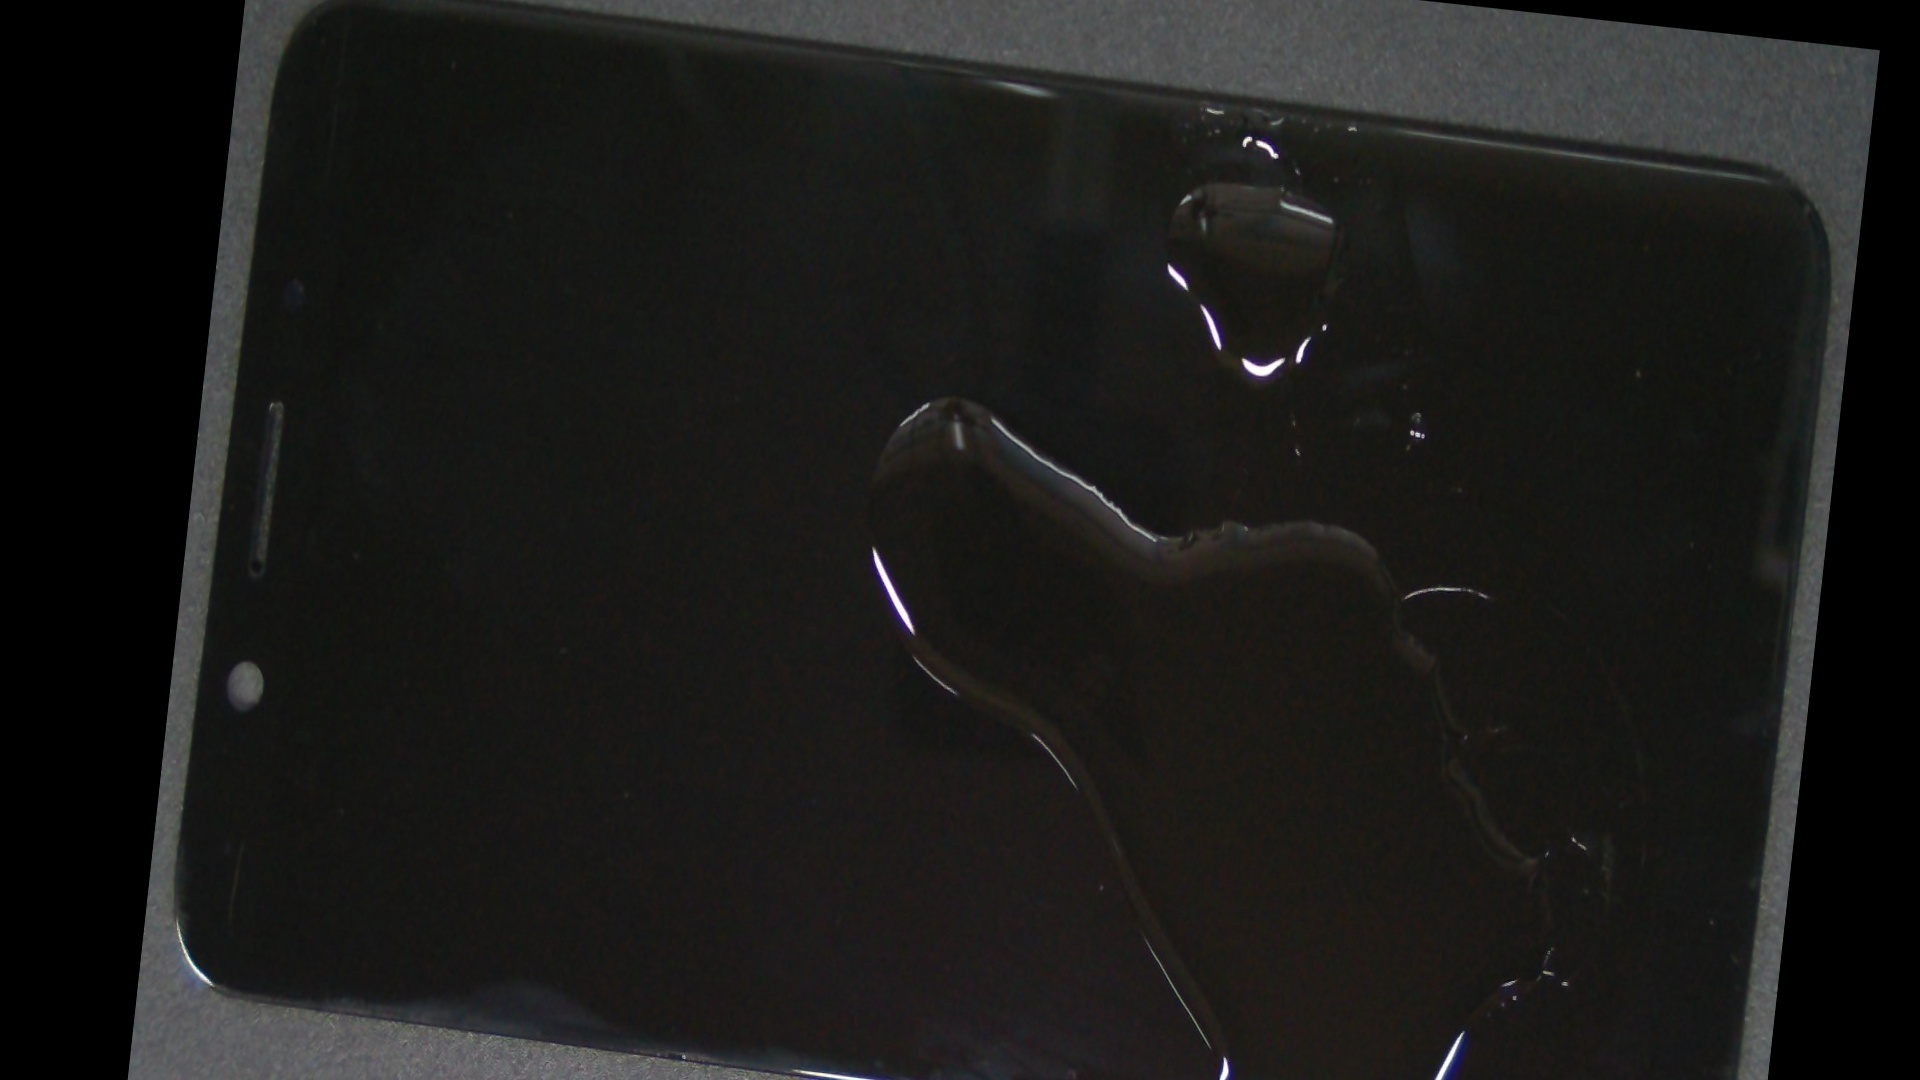oil: (793, 142, 1858, 661), (555, 135, 1337, 659), (735, 2, 1750, 261)
